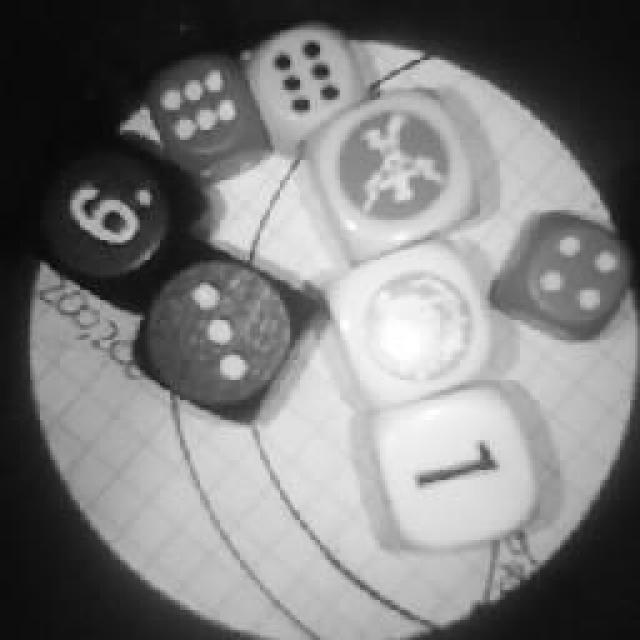dice_3: (130, 235, 320, 430)
dice_4: (488, 205, 638, 347)
dice_6: (237, 20, 375, 158), (142, 48, 278, 188)
